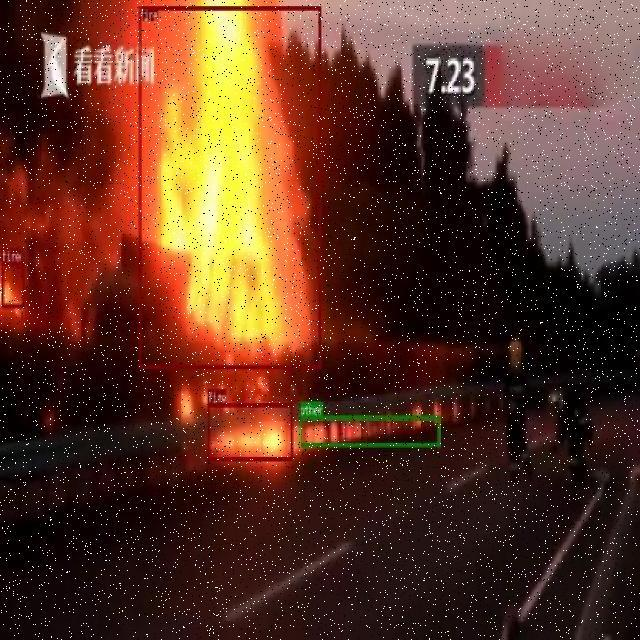other: (299, 414, 439, 446)
